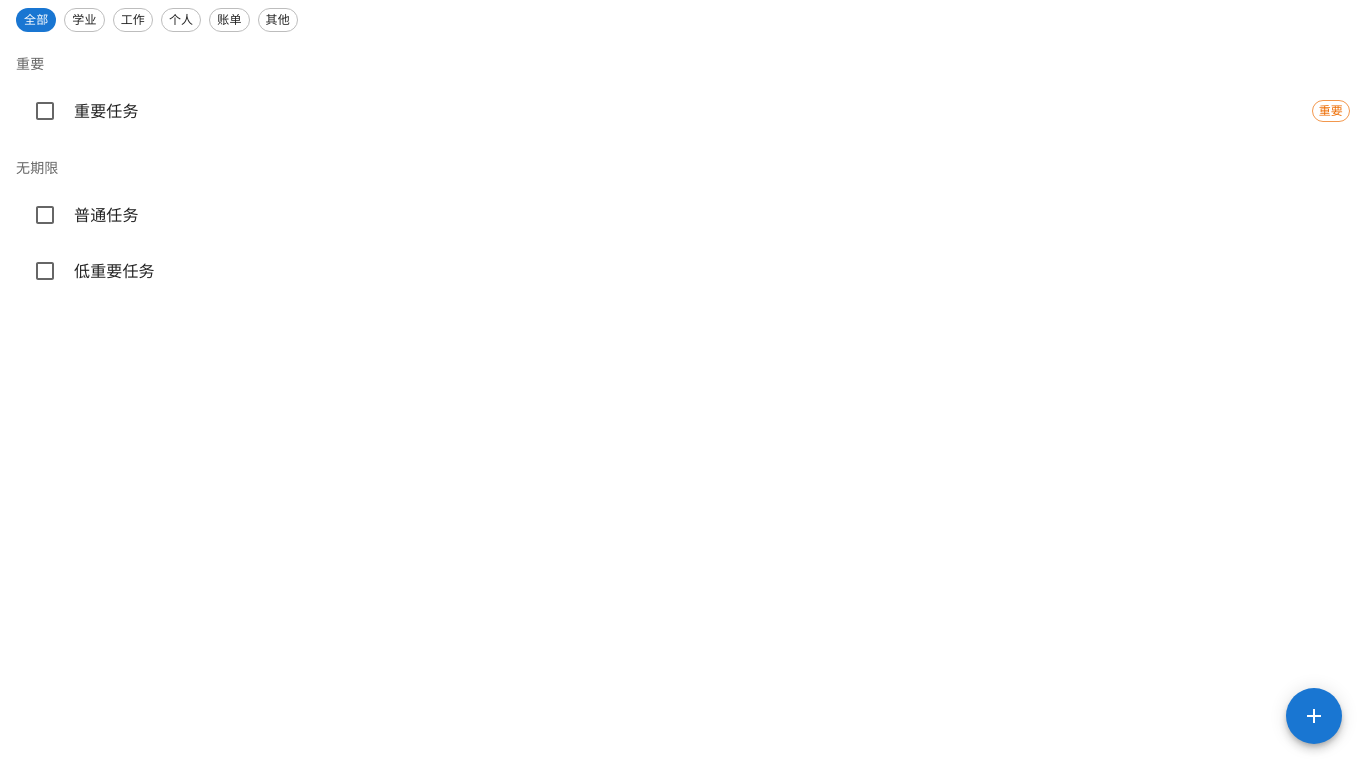
TasksPage 行上下文菜单 › 菜单打开时全页只有一份 RowContextMenu（菜单纸面 ≤1），且不构成嵌套玻璃
Expected: the text "重要任务" is shown, [74,102,139,121]
Step 1. Right-click the button "普通任务" → (86, 215), box [33,203,139,227]
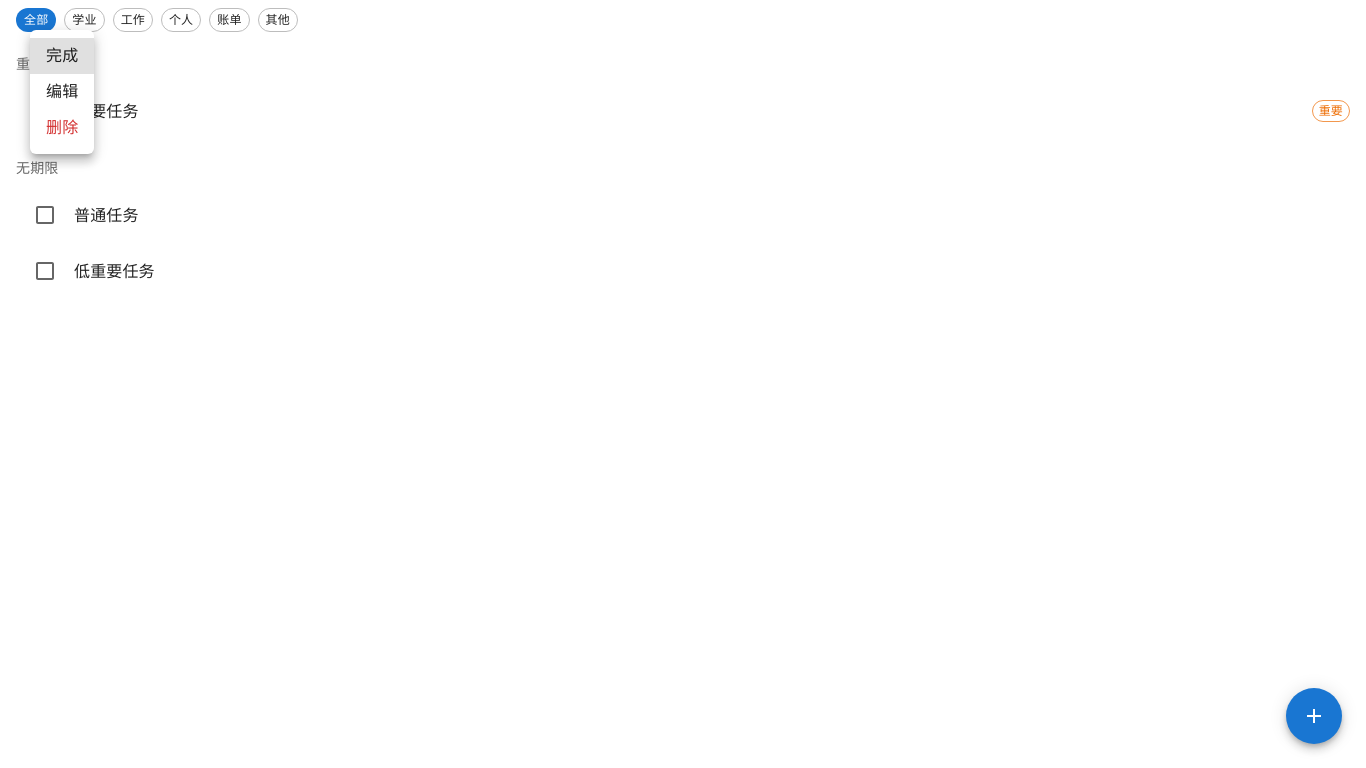
Now the menu is shown, box [30,30,94,154]
